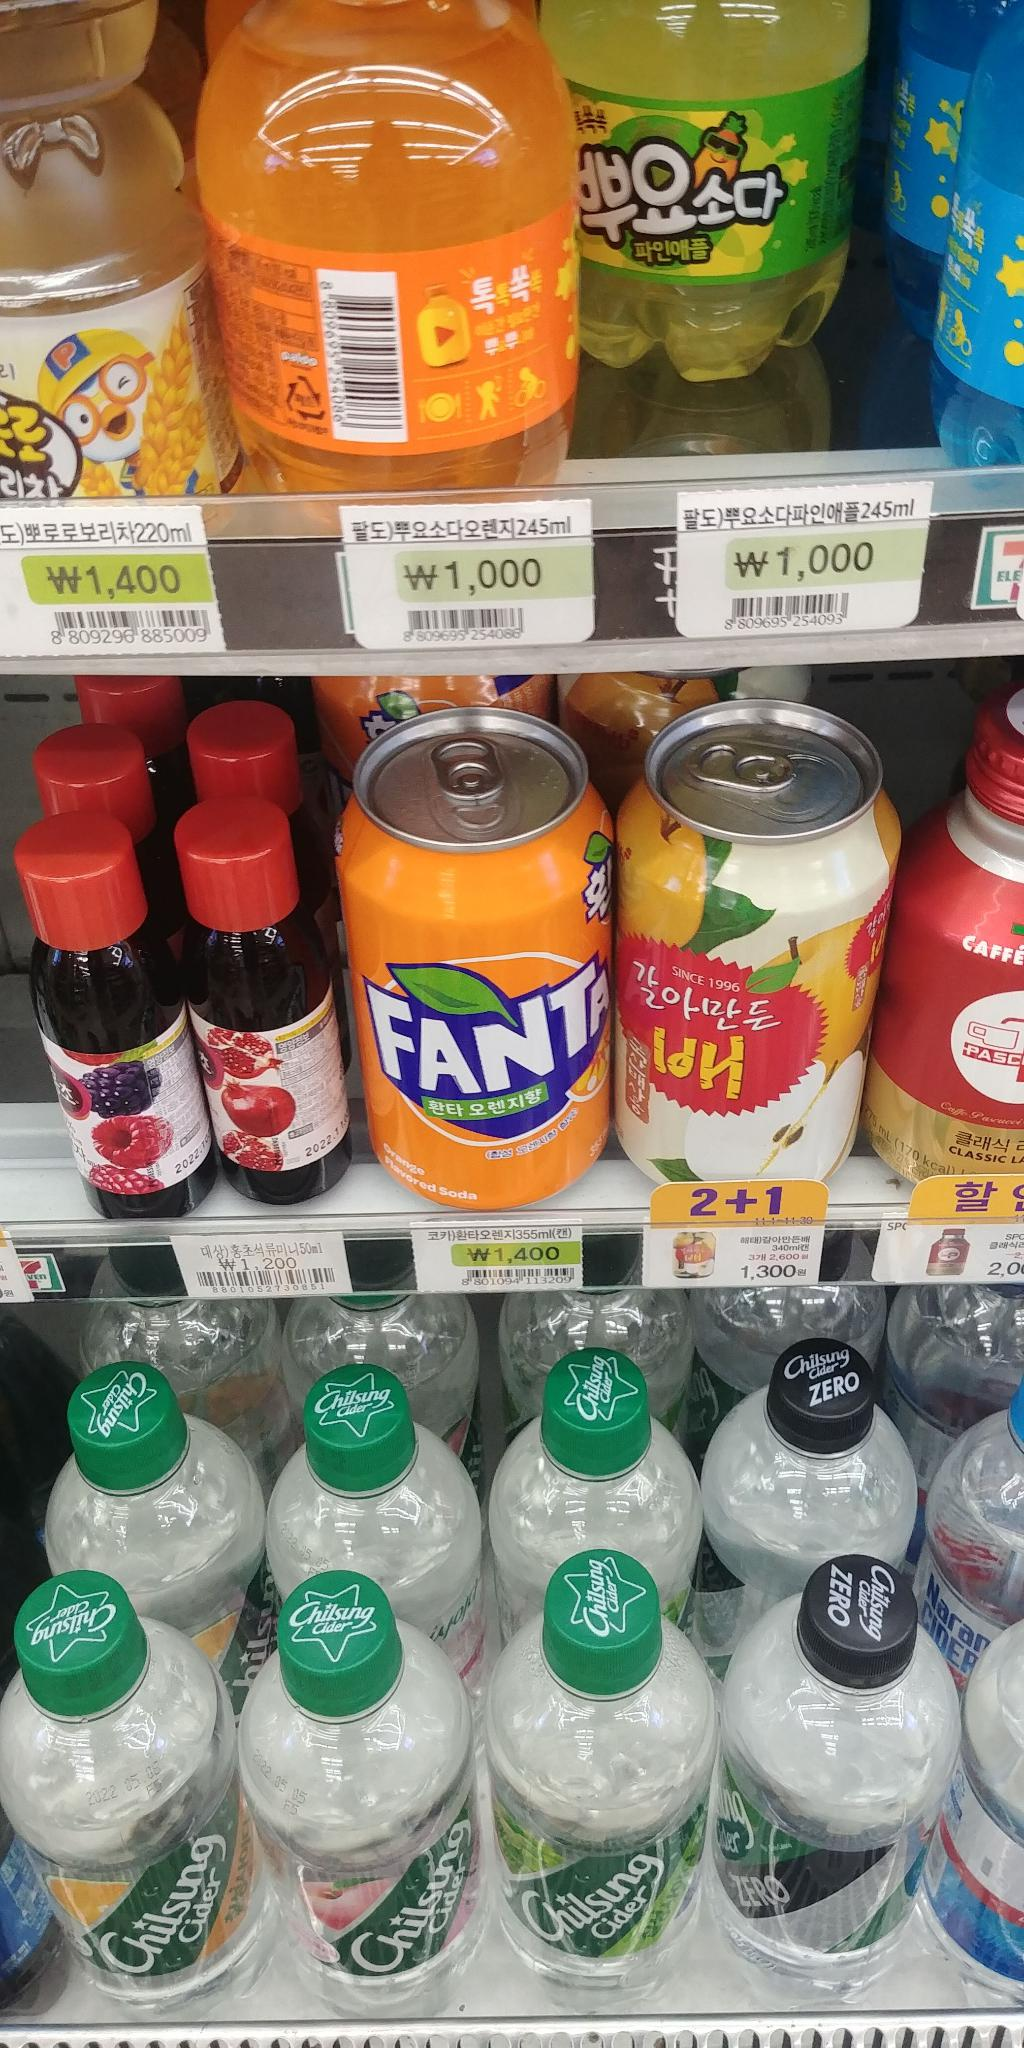fanta_orange: (303, 687, 623, 1203)
